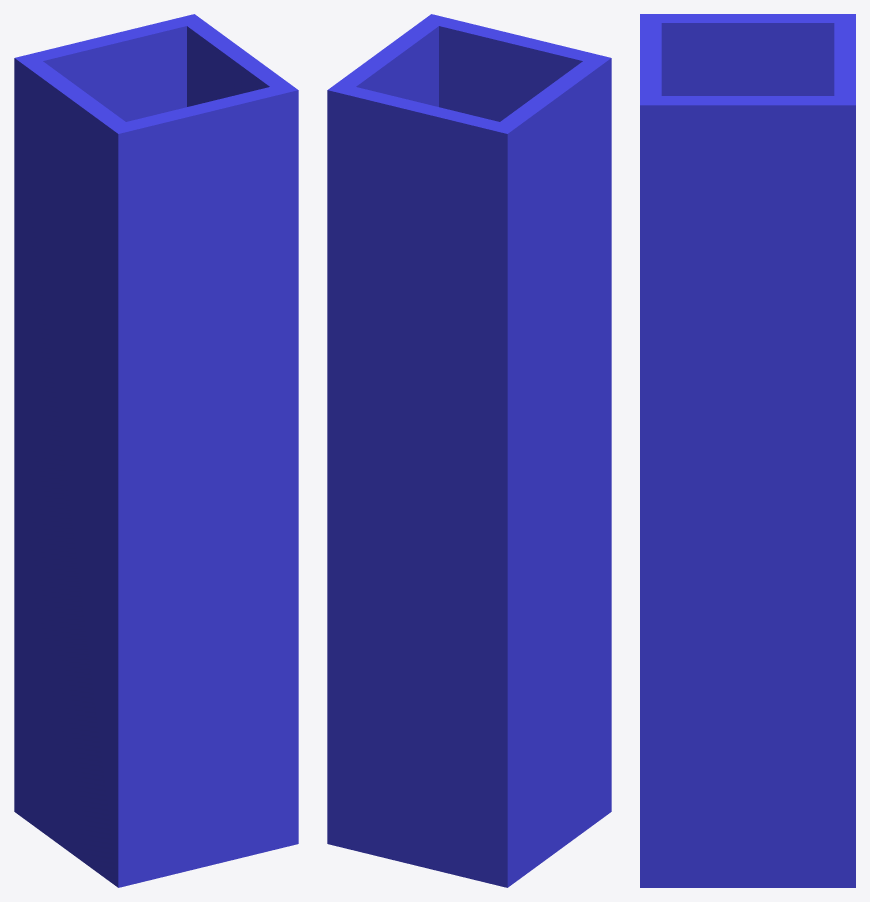
The model's file is fuel_cell.dae.
The picture shows the model from 3 angles, left to right: view 1: azimuth 30°, elevation 25°; view 2: azimuth 150°, elevation 25°; view 3: azimuth 270°, elevation 25°; orthographic projection. The views are drawn at different scales.
Visible parts, largest first — view 1: fuel_cell; view 2: fuel_cell; view 3: fuel_cell.
Boxes of the visible parts, left/top/right/bottom form: fuel_cell: left=14, top=14, right=298, bottom=887; fuel_cell: left=327, top=14, right=611, bottom=887; fuel_cell: left=640, top=14, right=855, bottom=887.
Size of the model in its own units: 1 by 1 by 4.
